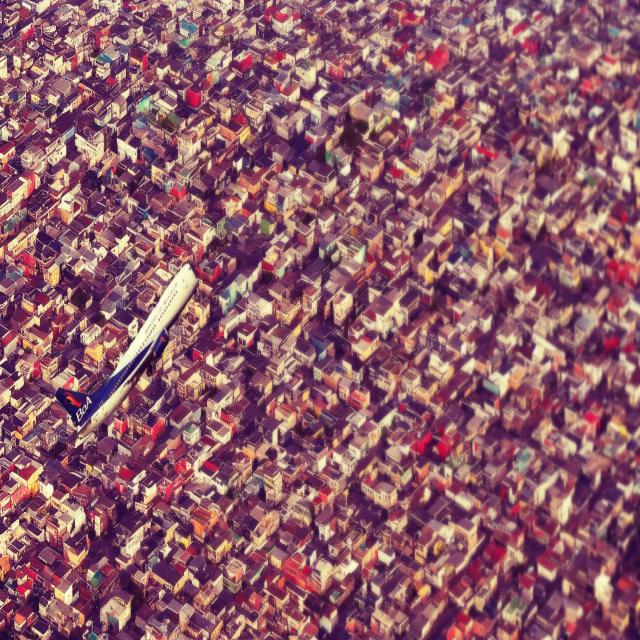airplane: (54, 261, 198, 448)
